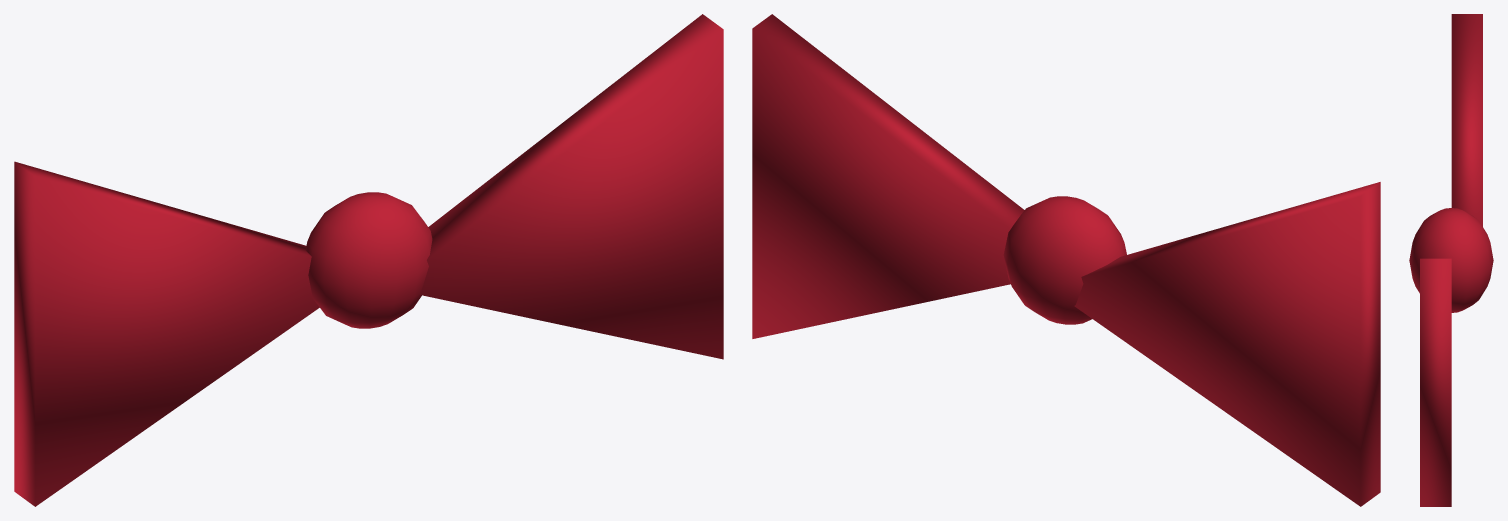
Rendered from pita.obj.
3 renders of one model, left to right at view 1: azimuth 30°, elevation 25°; view 2: azimuth 150°, elevation 25°; view 3: azimuth 270°, elevation 25°, orthographic. The views are drawn at different scales.
Visible parts, largest first — view 1: pita_sayap.001, pita_sayap, pita_simpul; view 2: pita_sayap, pita_sayap.001, pita_simpul; view 3: pita_sayap.001, pita_sayap, pita_simpul.
Part boxes in pixels (x1,y1,x2,y2): pita_sayap.001: [419, 14, 723, 359]; pita_sayap: [14, 161, 319, 506]; pita_simpul: [305, 192, 432, 328]; pita_sayap: [1074, 182, 1380, 506]; pita_sayap.001: [752, 14, 1024, 338]; pita_simpul: [1003, 196, 1126, 324]; pita_sayap.001: [1420, 258, 1451, 506]; pita_sayap: [1451, 14, 1482, 226]; pita_simpul: [1409, 208, 1493, 312].
Bounding box in the file's own units: 1.1 × 0.52 × 0.16.
